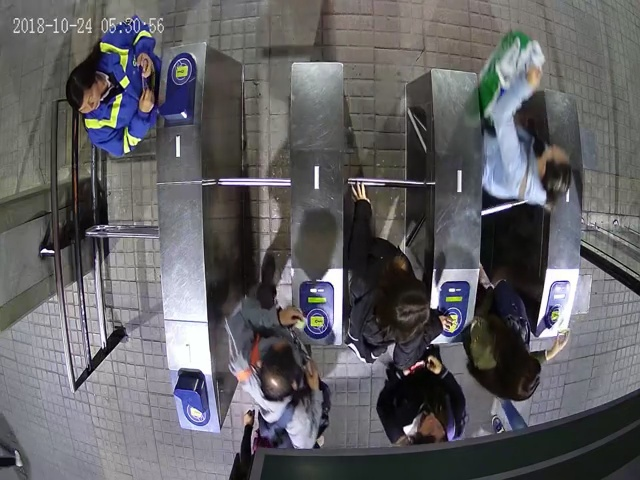Chaleco_azul: (66, 18, 158, 158)
